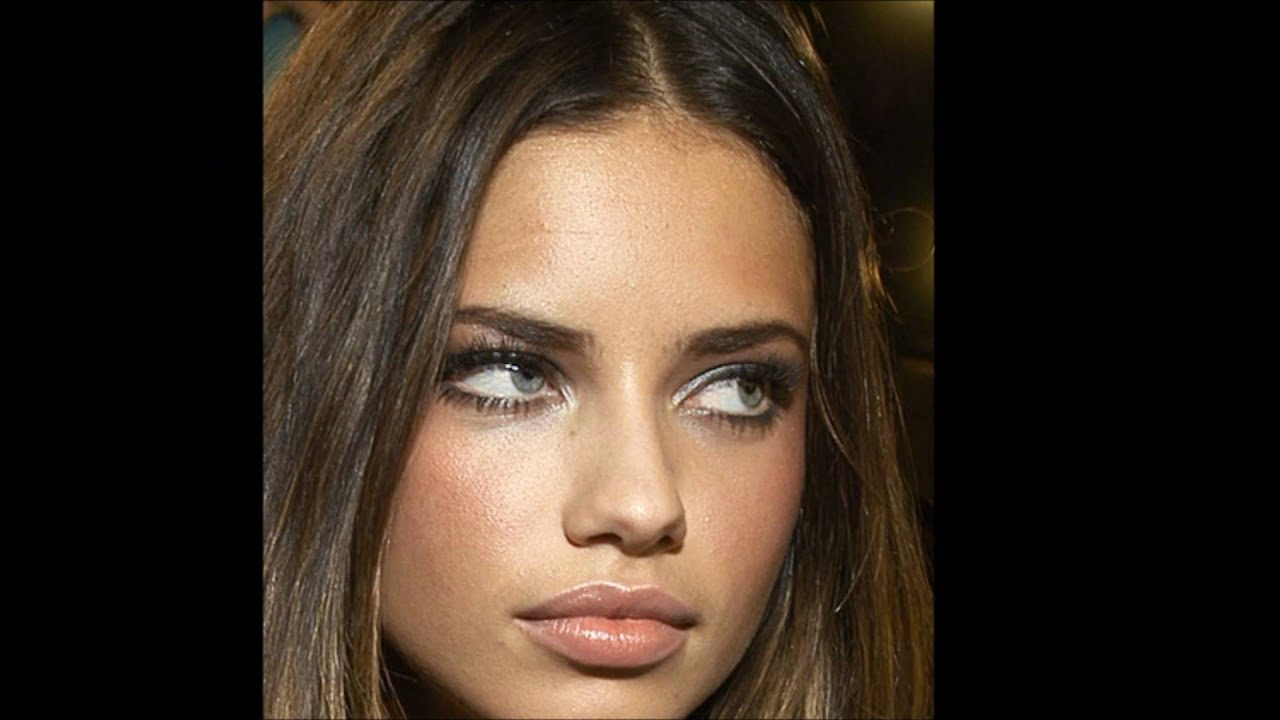without_mask: (407, 252, 786, 672)
